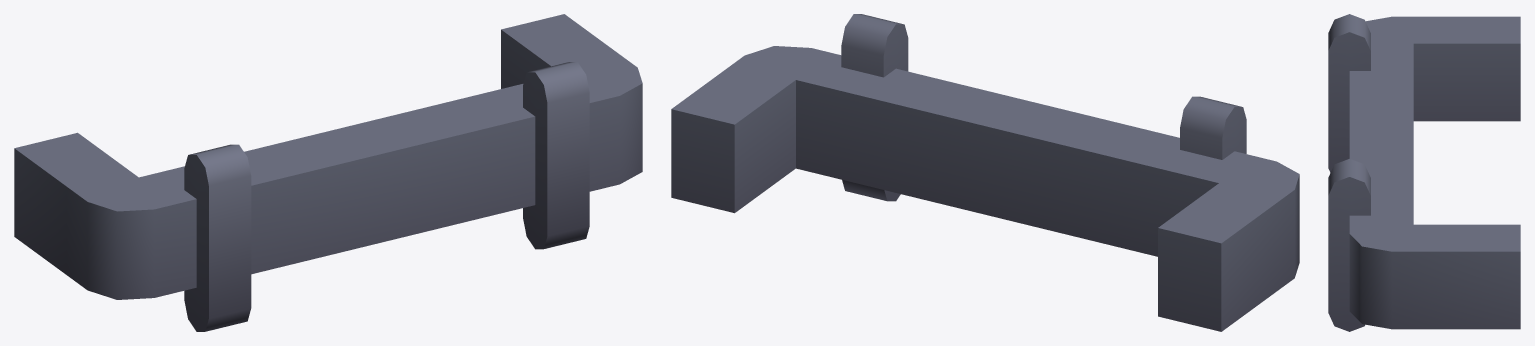
Rendered from debris-bumper.glb.
3 renders of one model, left to right at view 1: azimuth 30°, elevation 25°; view 2: azimuth 150°, elevation 25°; view 3: azimuth 270°, elevation 25°, orthographic. The views are drawn at different scales.
Parts seen in each view (by area): view 1: debris-bumper; view 2: debris-bumper; view 3: debris-bumper.
Boxes of the visible parts, x1,y1,x2,y2 form: debris-bumper: [14, 14, 642, 331]; debris-bumper: [671, 14, 1299, 331]; debris-bumper: [1328, 14, 1520, 331].
Bounding box in the file's own units: 1.3 × 0.4 × 0.45.
